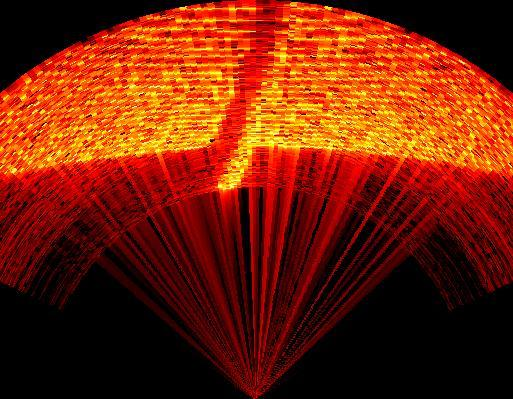pipe: (200, 5, 291, 192)
